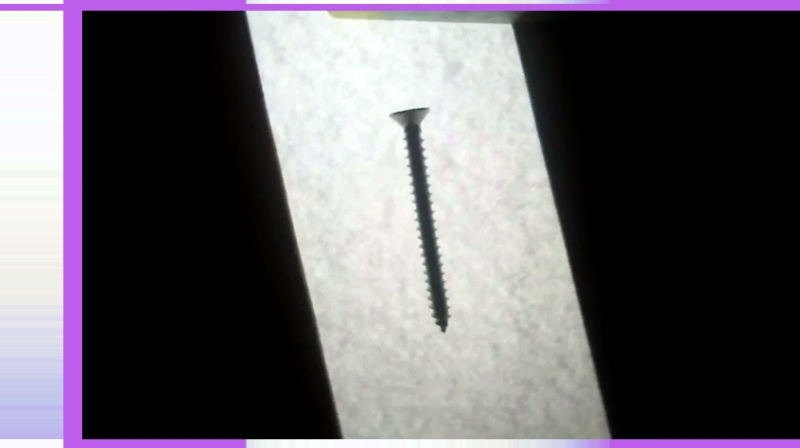S002: (385, 102, 450, 332)
